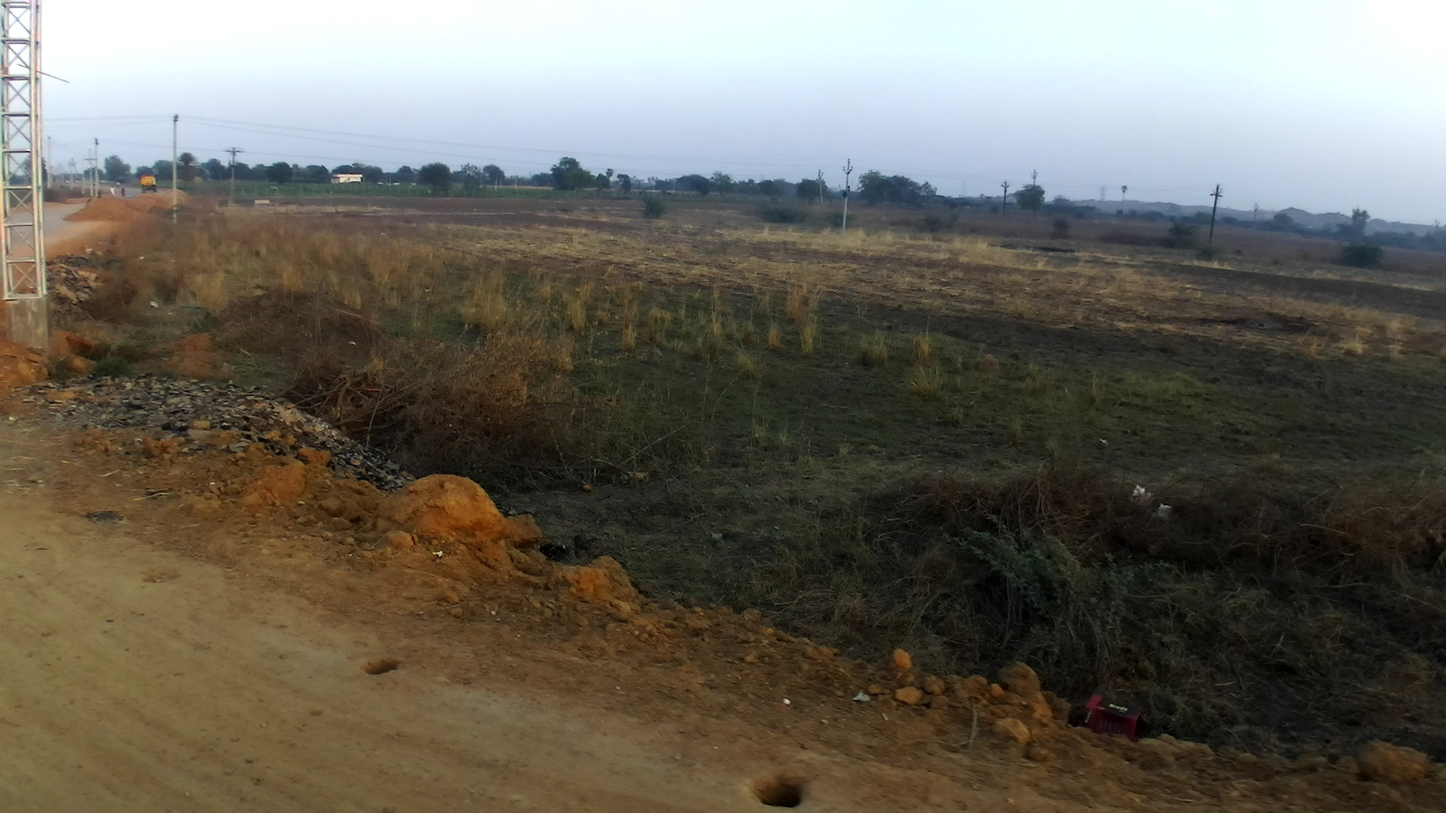person: (118, 185, 127, 197), (109, 184, 115, 198)
truck: (137, 175, 157, 196)
